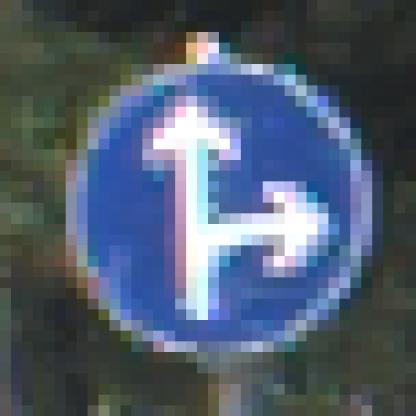Straight or Right: (56, 54, 362, 364)
